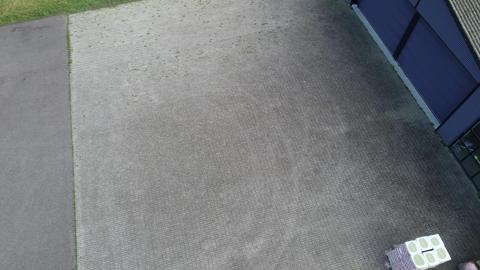RockwoolPallet: (388, 233, 453, 270)
